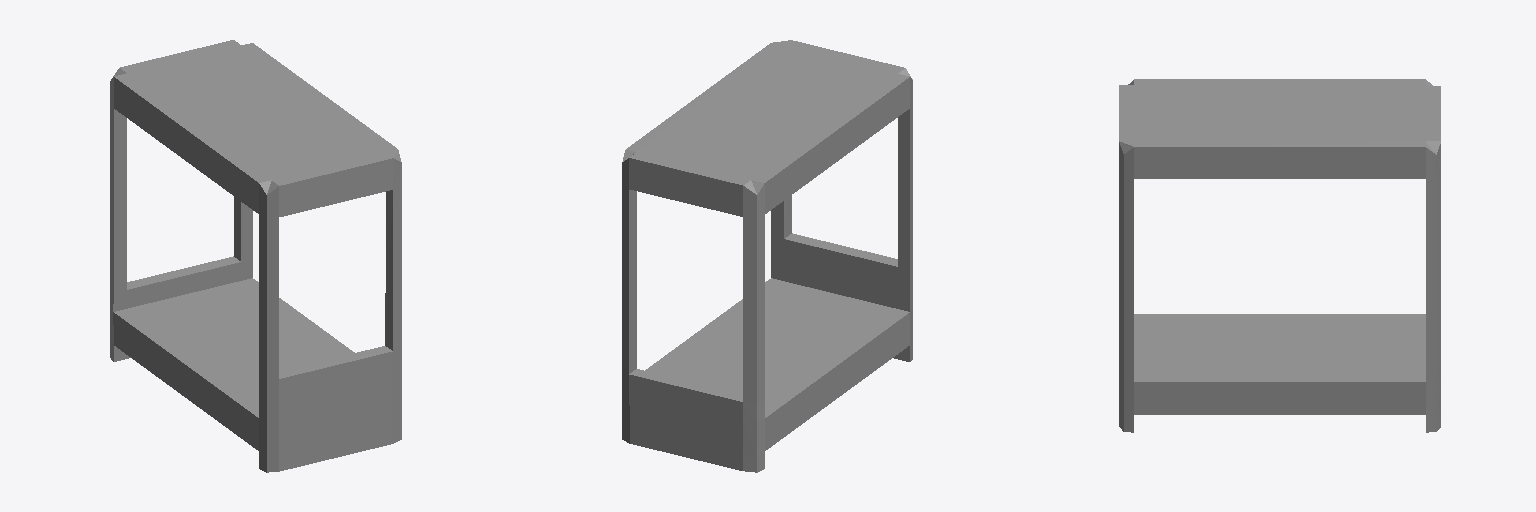
File: Bed.obj
3 renders of one model, left to right at view 1: azimuth 30°, elevation 25°; view 2: azimuth 150°, elevation 25°; view 3: azimuth 270°, elevation 25°, orthographic.
Visible parts, largest first — view 1: Cube; view 2: Cube; view 3: Cube.
Part boxes in pixels (x1,y1,x2,y2): Cube: (110,40,401,472); Cube: (622,40,912,472); Cube: (1119,79,1440,432).
Size of the model in its own units: 3.31 by 6.5 by 6.64.